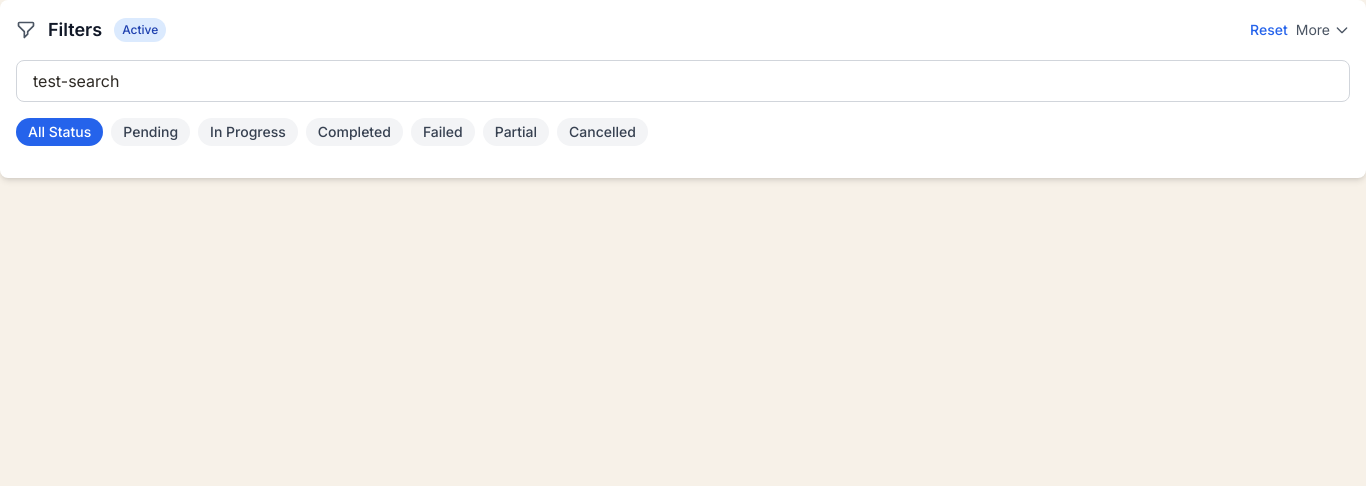
Test: AdvancedJobFilters › Active Filters Summary (Expanded) › should display search in summary
Click the button "More".
click(1323, 30)  # box x1=1296 y1=20 x2=1350 y2=40
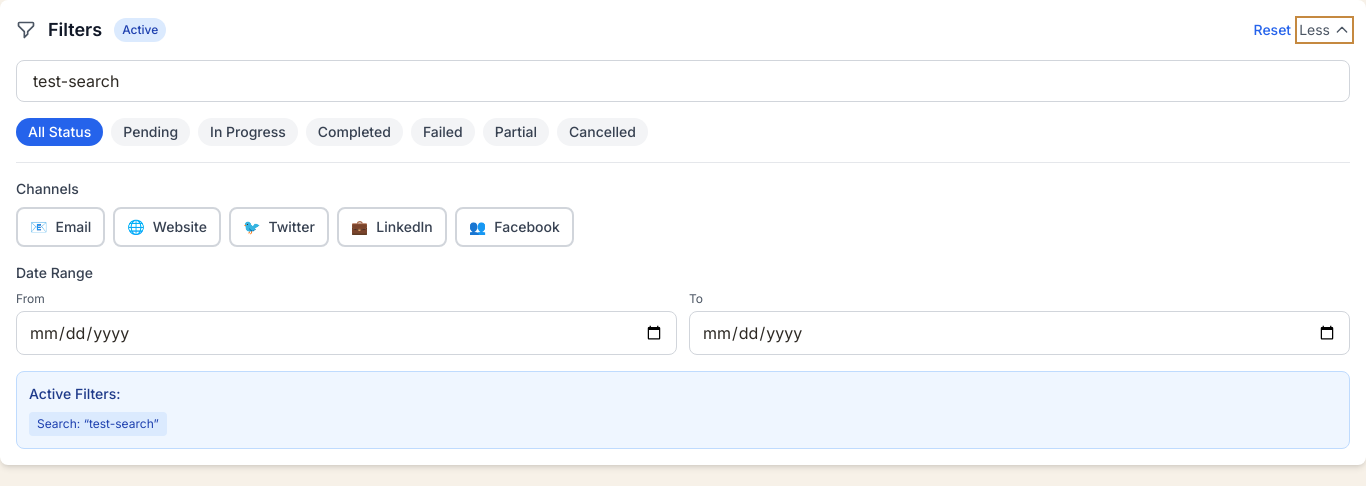
expect the text "Active Filters:" shows "test-search": met, box x1=89 y1=416 x2=154 y2=431
